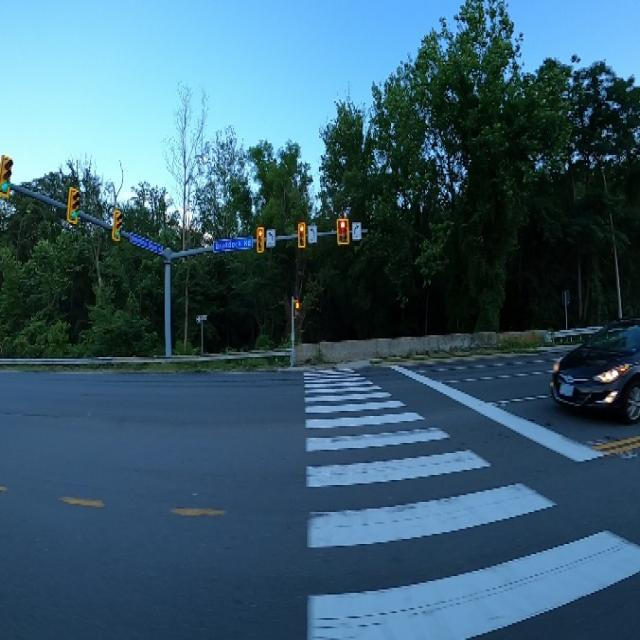cars: (531, 315, 640, 450)
